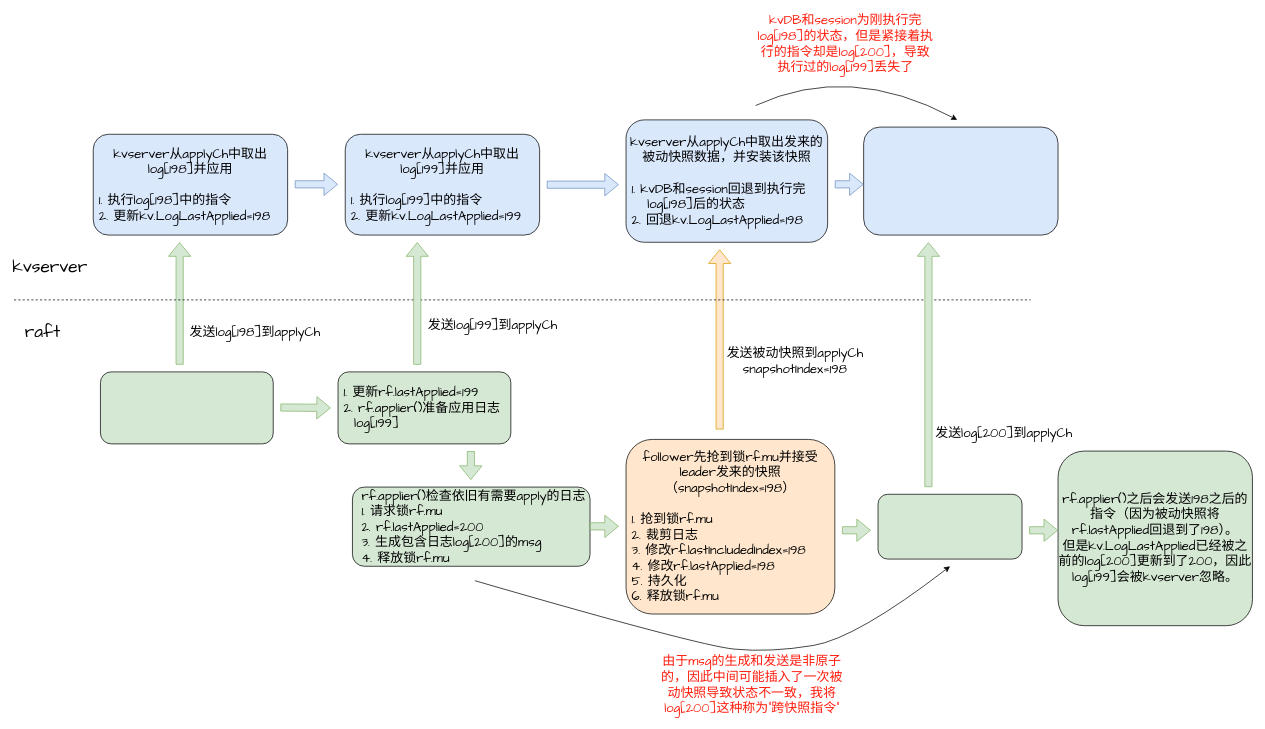
The diagram is 1265 pixels wide and 729 high, and some of its shapes have lost their labels. The box of each missing label's shape, as (x1, y1, x2, y2) in pixels:
1. 更新rf.lastApplied=198 2. rf.applier()准备应用日志 log[198]: (100, 371, 273, 444)
kvserver从applyCh中取出log[200]并应用 1. 执行log[200]中的指令 2. 更新kv.LogLastApplied =200: (863, 126, 1058, 235)
rf.applier()得以向applyCh发送log[200]: (877, 494, 1022, 559)
